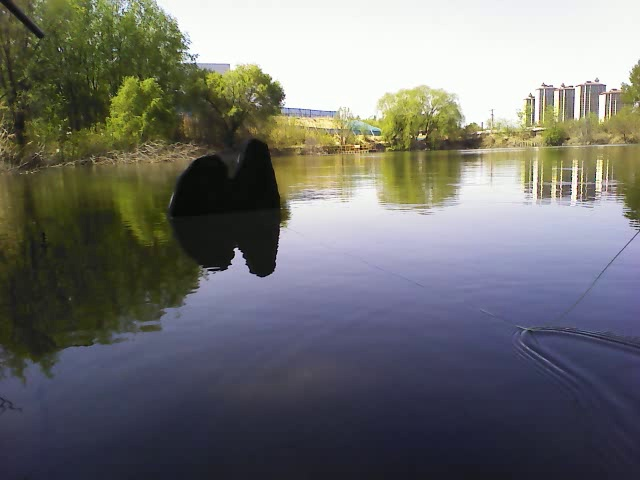rock: (165, 136, 283, 218)
